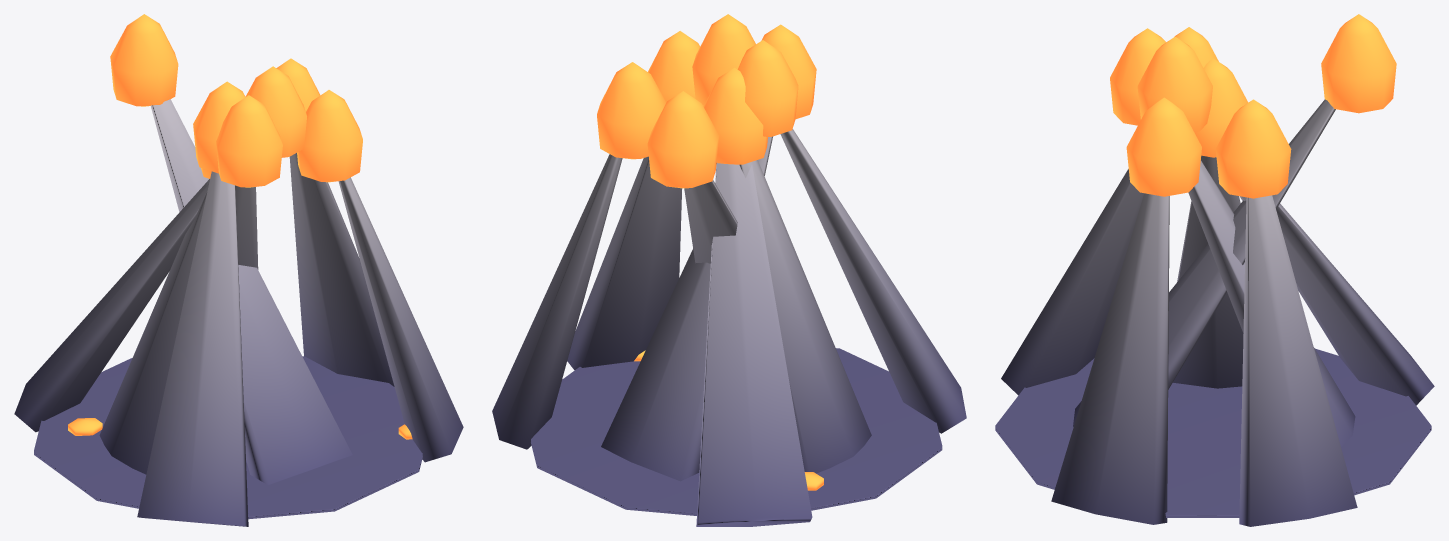
Rendered from tall_grass_ash.glb.
3 views of the same model, side by side, from view 1: azimuth 30°, elevation 25°; view 2: azimuth 150°, elevation 25°; view 3: azimuth 270°, elevation 25° (orthographic). The views are drawn at different scales.
Visible parts, largest first — view 1: Blades, Scorch; view 2: Blades, Scorch; view 3: Blades, Scorch.
Part boxes in pixels (bbox=[...]): Blades: bbox=[14, 14, 463, 526]; Scorch: bbox=[34, 356, 422, 519]; Blades: bbox=[492, 14, 966, 526]; Scorch: bbox=[531, 348, 942, 515]; Blades: bbox=[1001, 14, 1434, 526]; Scorch: bbox=[995, 348, 1431, 517].
Bounding box in the file's own units: 0.5293 × 0.5538 × 0.5234.
